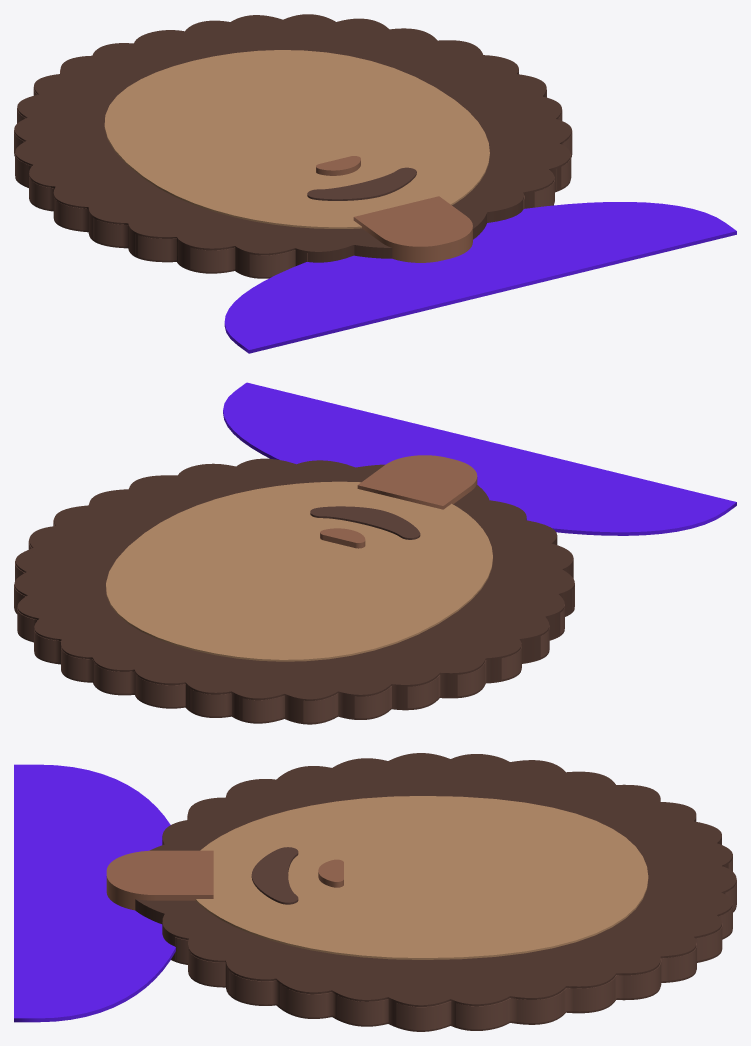
The model's file is emoji_u1f469_1f3fd_200d_1f9b1.glb.
3 renders of one model, top to bottom at view 1: azimuth 30°, elevation 25°; view 2: azimuth 150°, elevation 25°; view 3: azimuth 270°, elevation 25°, orthographic. The views are drawn at different scales.
Visible parts, largest first — view 1: emoji_u1f469_1f3fd_200d_1f9b1; view 2: emoji_u1f469_1f3fd_200d_1f9b1; view 3: emoji_u1f469_1f3fd_200d_1f9b1.
Part boxes in pixels (<box>): emoji_u1f469_1f3fd_200d_1f9b1: <box>14,14,736,353</box>; emoji_u1f469_1f3fd_200d_1f9b1: <box>14,382,736,724</box>; emoji_u1f469_1f3fd_200d_1f9b1: <box>14,753,736,1031</box>.
Size of the model in its own units: 0.0285 by 0.0022 by 0.0342.
